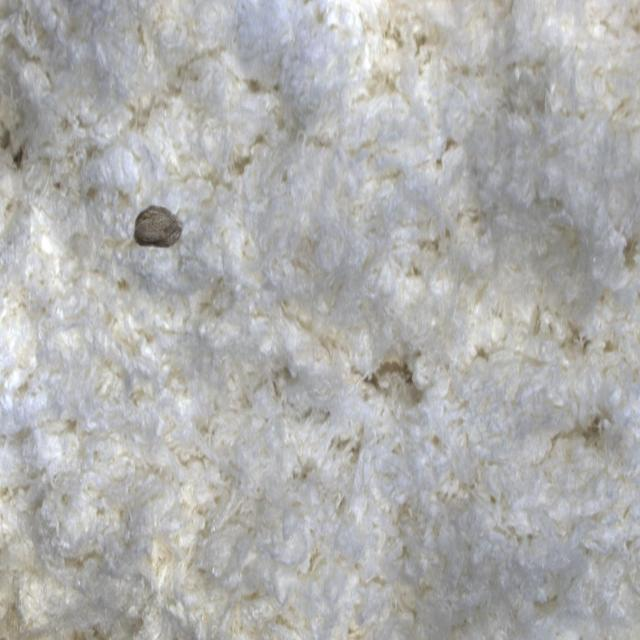dust: (109, 135, 222, 295)
